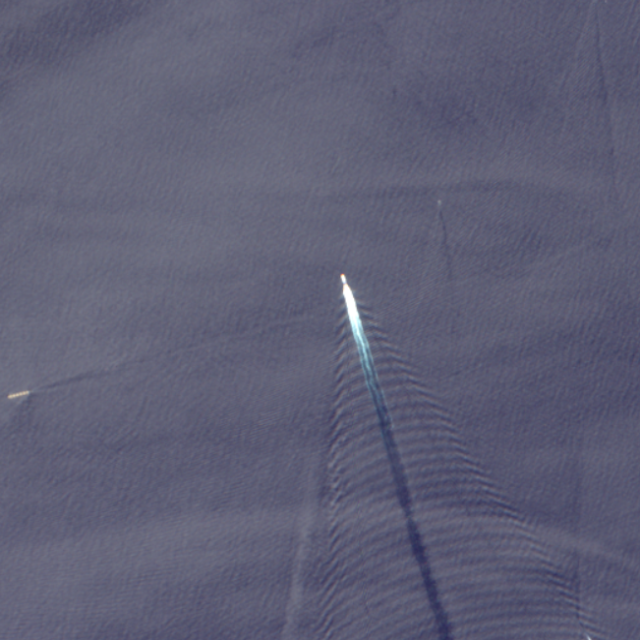wake: (237, 222, 528, 610)
